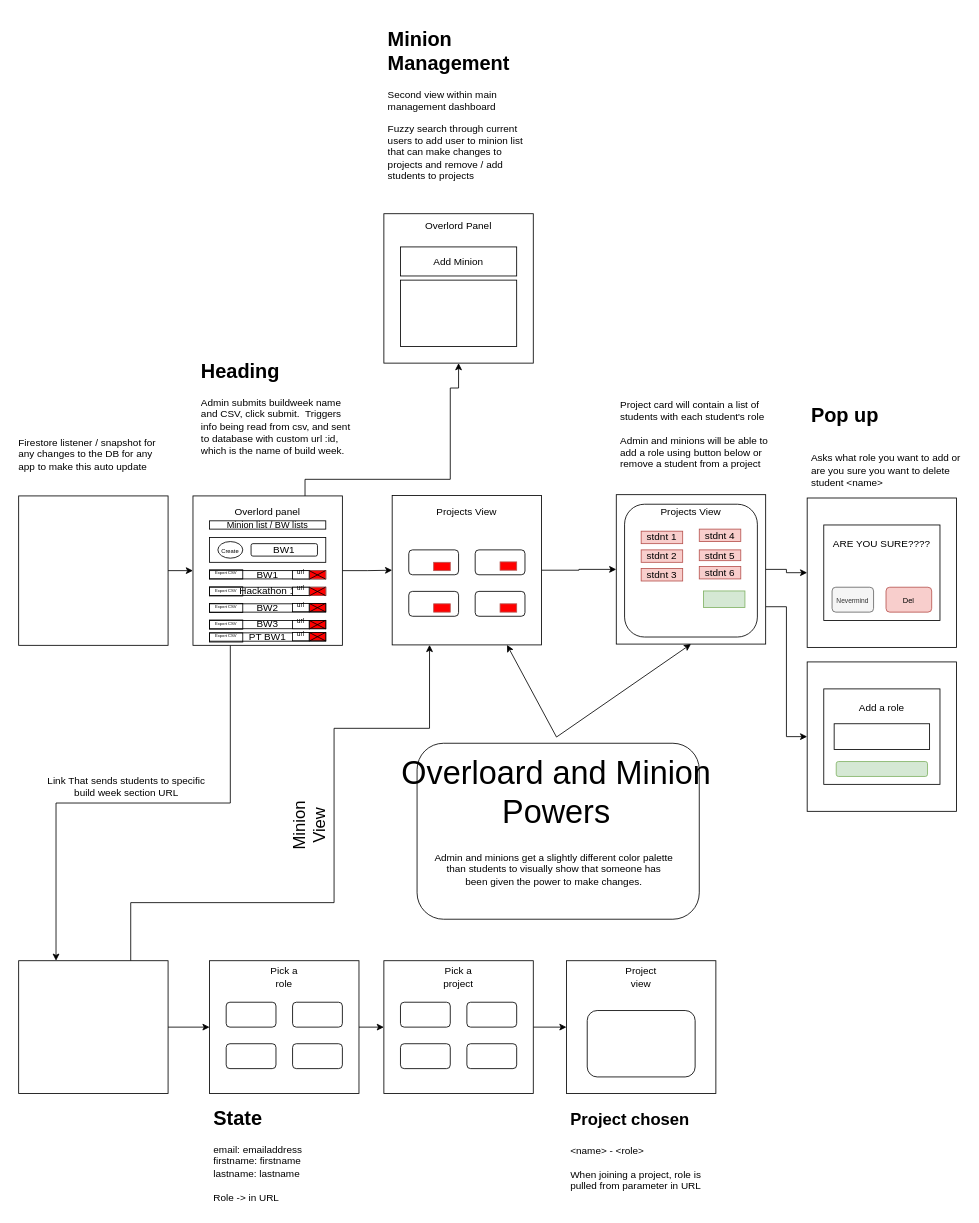
This 979x1223 diagram has some shape labels left out. Here are the shapes that lost their labels. From the top down, the box of each, then its label:
(400, 279, 517, 347): Current List of Minions
(18, 495, 168, 645): admin login
(833, 723, 930, 749): Drop down role picker
(835, 761, 928, 776): Add
(18, 960, 168, 1094): Student Login
